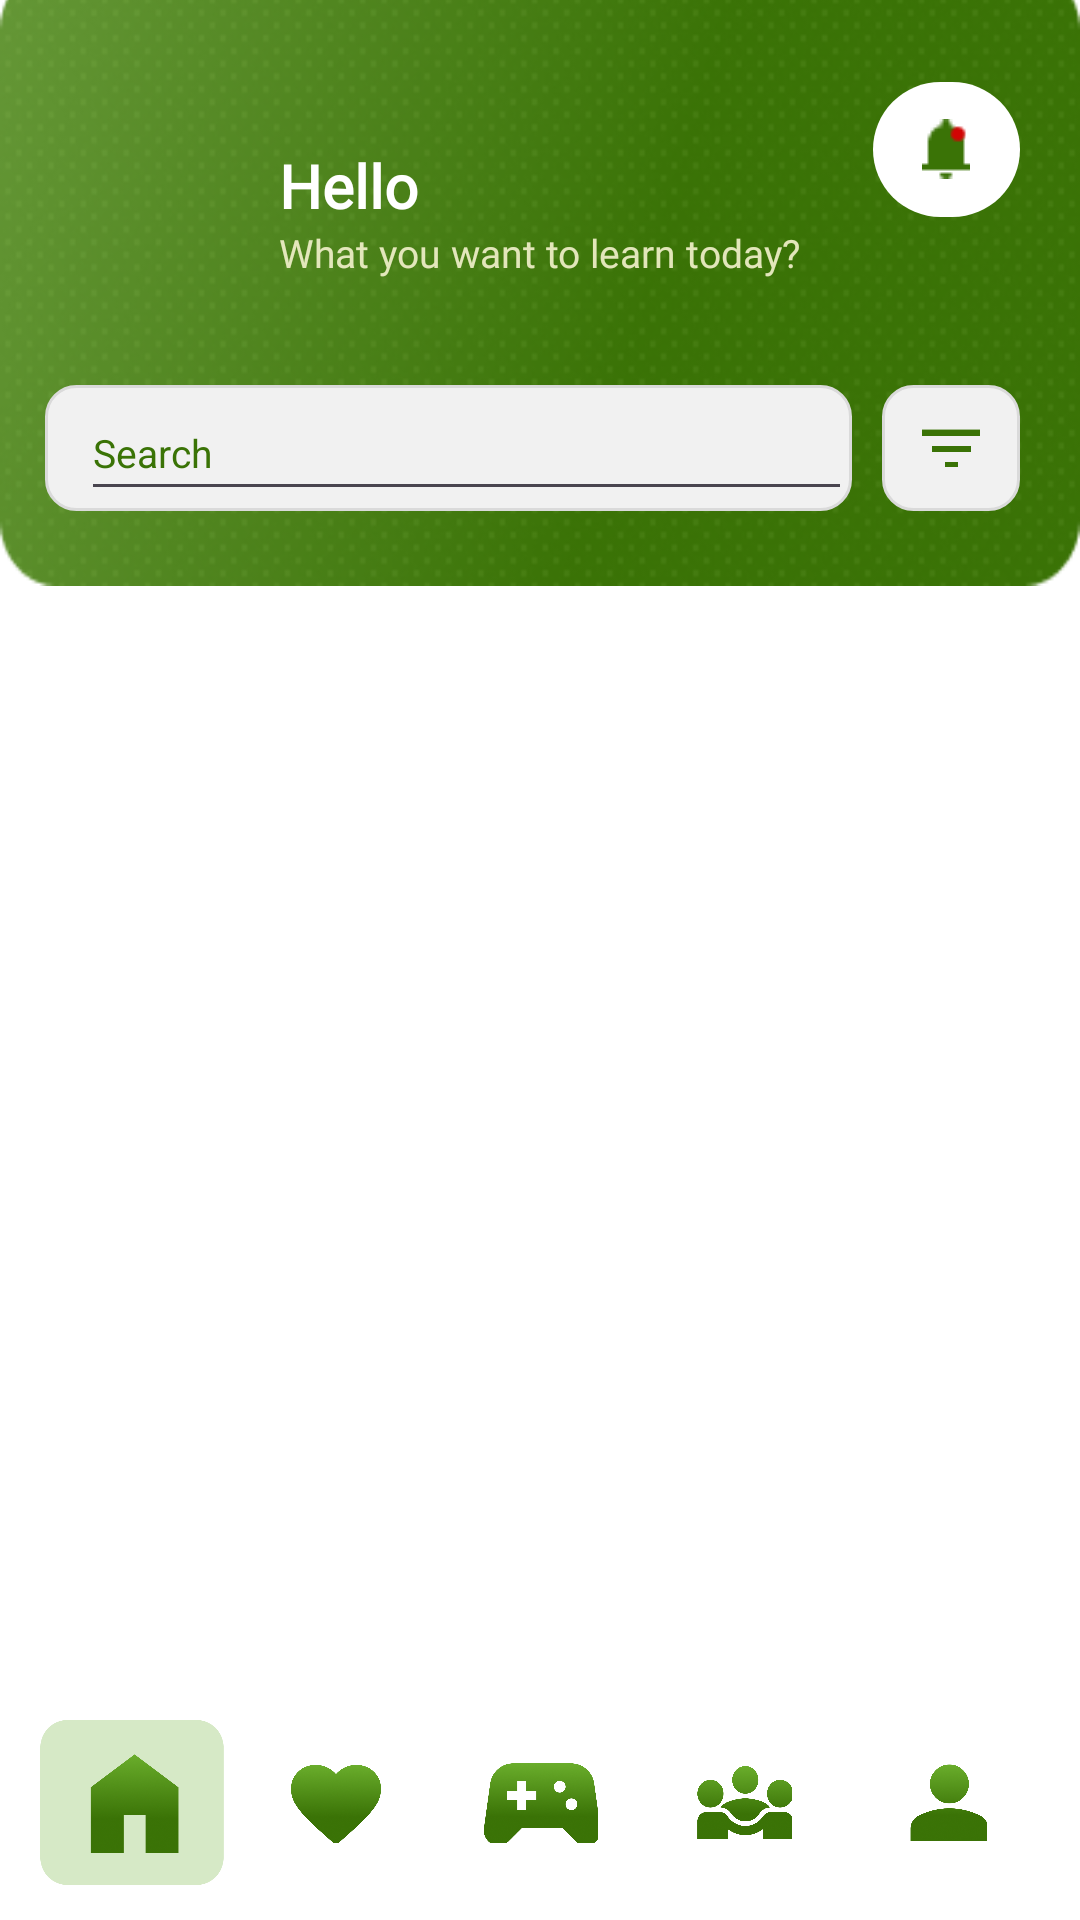

Screen size 1080*1920. Icon name, then its center in pixels as [x,y]:
community: [744,1802]
favorite: [336,1804]
filter list: [951,448]
games: [541,1803]
notifydot: [958,134]
profile page: [948,1802]
